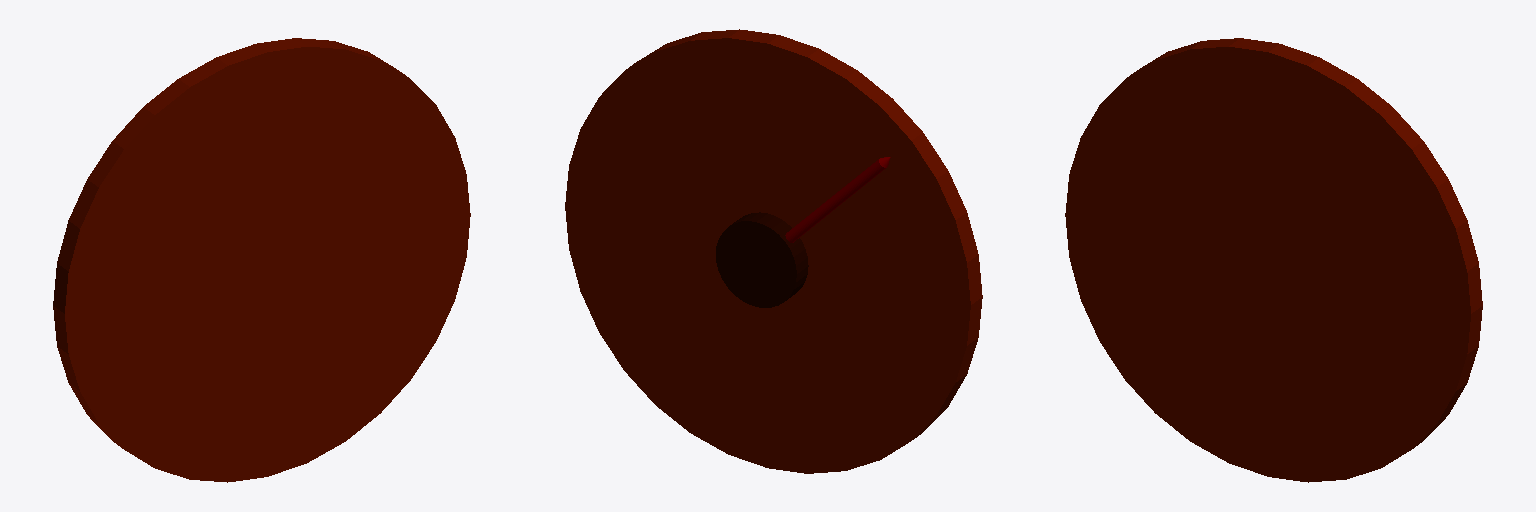
File: speedometer.obj
3 renders of one model, left to right at view 1: azimuth 30°, elevation 25°; view 2: azimuth 150°, elevation 25°; view 3: azimuth 330°, elevation 25°, orthographic.
Parts seen in each view (by area): view 1: Circle; view 2: Circle, Circle.001, Circle.002; view 3: Circle.
Boxes of the visible parts, box(x1,y1,x2,y2) form: Circle: box(53, 38, 470, 482); Circle: box(565, 29, 982, 473); Circle.001: box(716, 212, 808, 307); Circle.002: box(785, 157, 890, 242); Circle: box(1065, 38, 1482, 482).
Bounding box in the file's own units: 2 × 2 × 0.2.